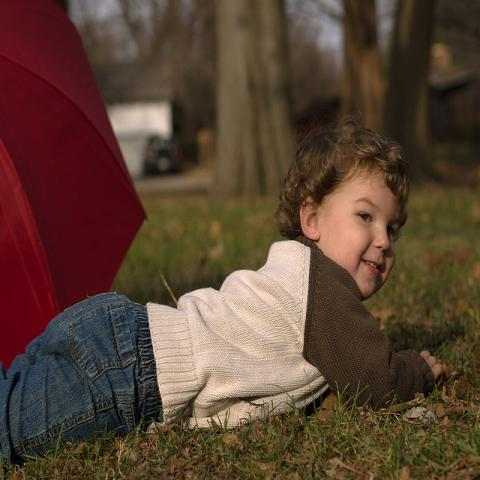car: (142, 132, 183, 178)
